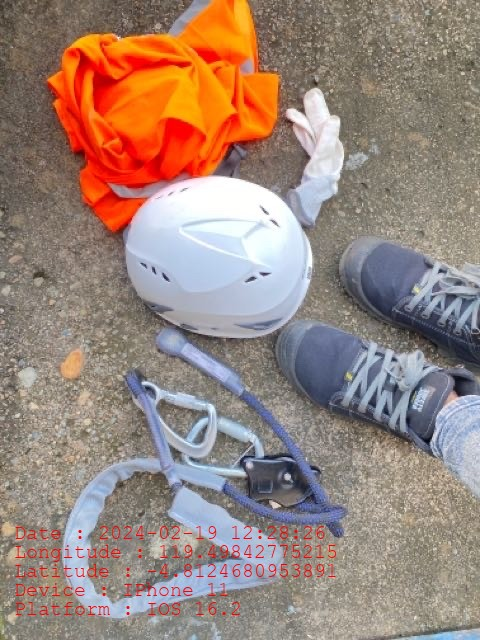HELM: (125, 175, 311, 337)
ROMPI: (48, 1, 281, 177)
